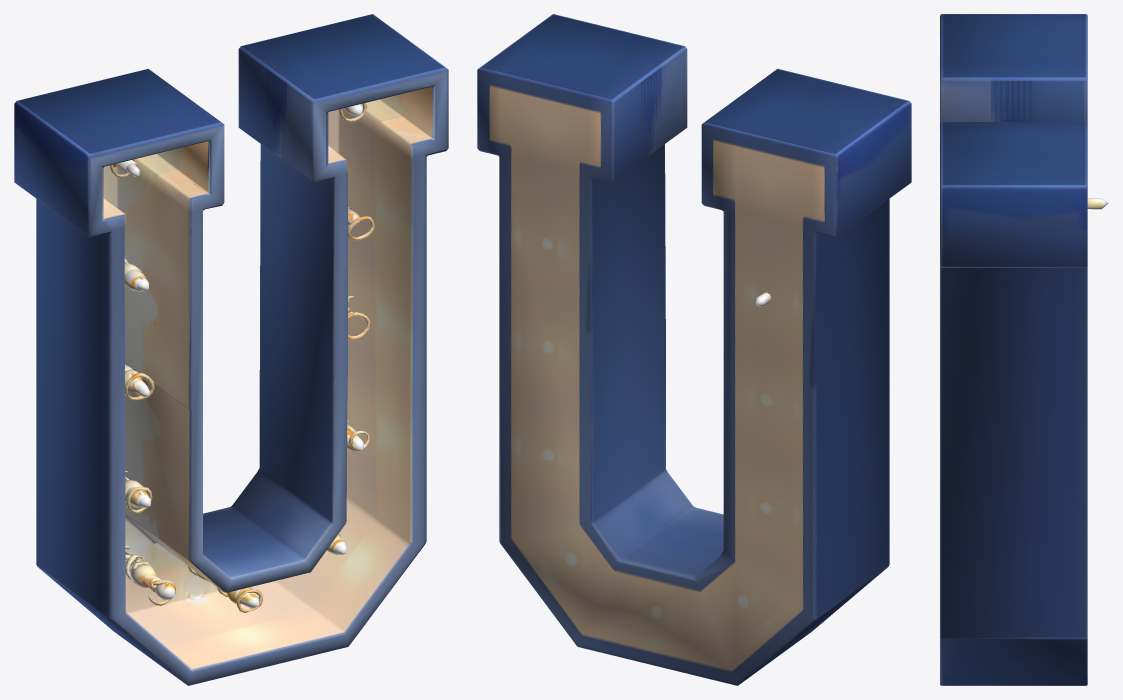
File: Letter_u.glb
3 renders of one model, left to right at view 1: azimuth 30°, elevation 25°; view 2: azimuth 150°, elevation 25°; view 3: azimuth 270°, elevation 25°, orthographic.
Parts seen in each view (by area): view 1: Mesh_0.001; view 2: Mesh_0.001; view 3: Mesh_0.001.
Boxes of the visible parts, left/top/right/bottom form: Mesh_0.001: left=14, top=14, right=448, bottom=685; Mesh_0.001: left=477, top=14, right=911, bottom=685; Mesh_0.001: left=940, top=14, right=1108, bottom=685.
Size of the model in its own units: 0.6215 by 0.9144 by 0.2554.
1 material, 1 textured.
